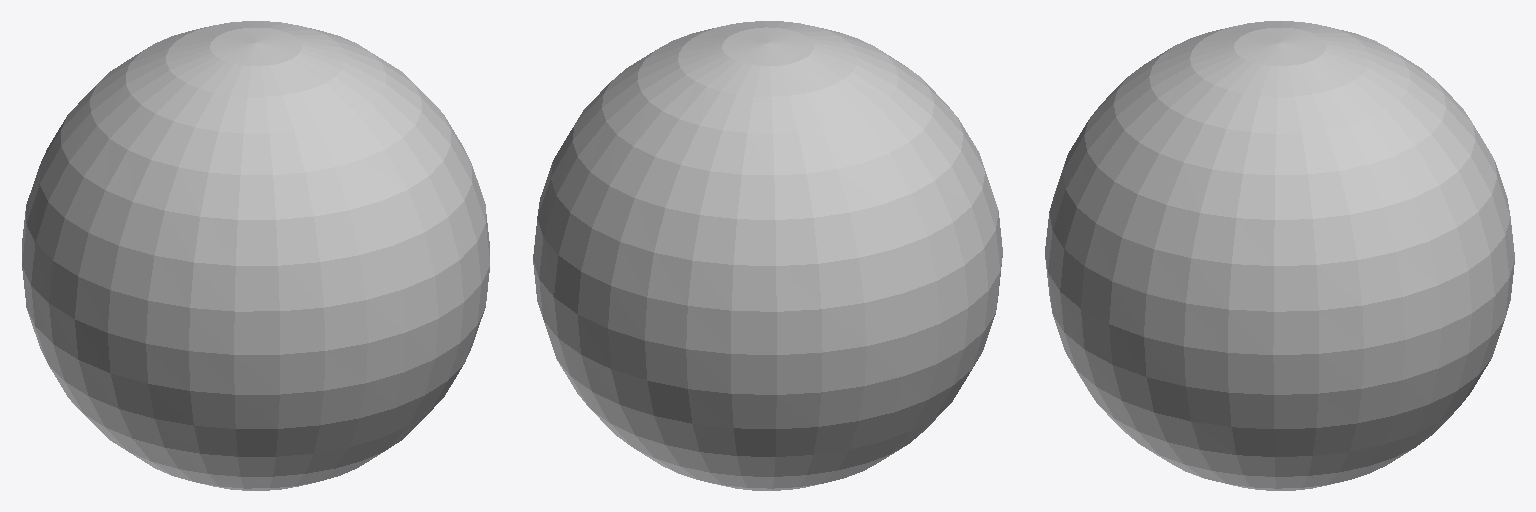
File: sun.obj
The picture shows the model from 3 angles: view 1: azimuth 30°, elevation 25°; view 2: azimuth 150°, elevation 25°; view 3: azimuth 270°, elevation 25°; orthographic projection.
Parts seen in each view (by area): view 1: 106; view 2: 106; view 3: 106.
Part boxes in pixels (x1,y1,x2,y2): 106: (22, 21, 489, 490); 106: (533, 21, 1002, 490); 106: (1045, 21, 1514, 490).
Bounding box in the file's own units: 13.71 × 13.72 × 13.71.